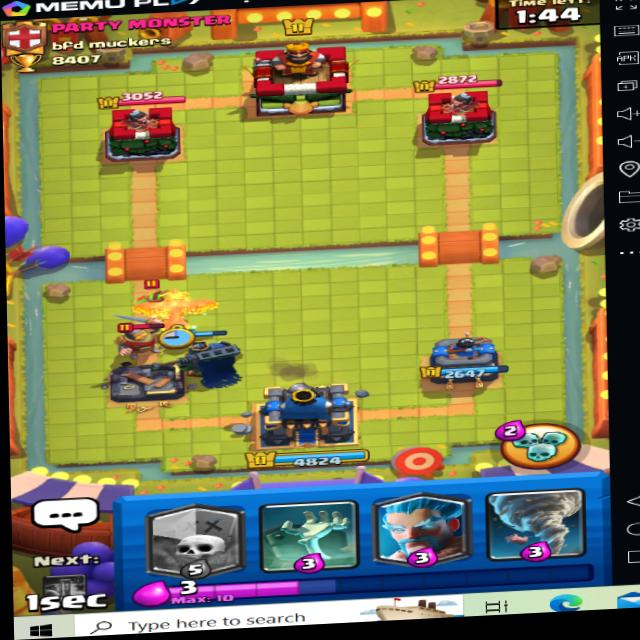knight: (113, 317, 169, 361)
spear-goblin: (134, 278, 180, 315)
